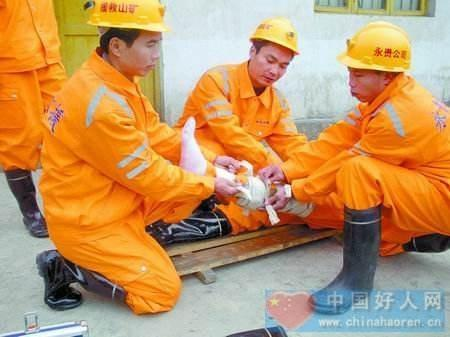helmet: (77, 0, 170, 79), (336, 19, 415, 107), (248, 16, 303, 92)
reflective: (34, 61, 183, 248), (319, 80, 449, 243), (183, 61, 308, 189)
